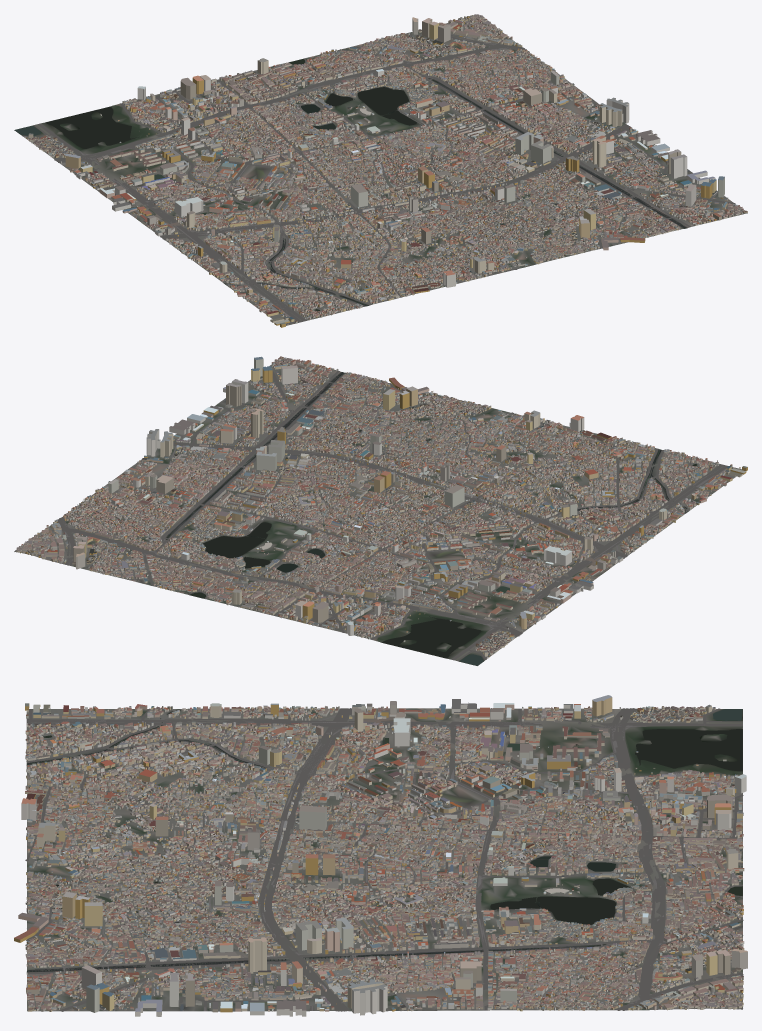
3 views of the same model, one above another, from view 1: azimuth 30°, elevation 25°; view 2: azimuth 150°, elevation 25°; view 3: azimuth 270°, elevation 25° (orthographic). The views are drawn at different scales.
Parts seen in each view (by area): view 1: buildings, ground, roads, water; view 2: buildings, ground, roads, water; view 3: buildings, ground, roads, water.
Boxes of the visible parts, <box> form: buildings: <box>24,14,747,327</box>; ground: <box>14,18,747,325</box>; roads: <box>22,20,735,324</box>; water: <box>15,58,689,311</box>; buildings: <box>16,356,747,658</box>; ground: <box>14,360,741,665</box>; roads: <box>15,366,743,661</box>; water: <box>166,372,697,665</box>; buildings: <box>14,695,747,1016</box>; ground: <box>26,708,742,1011</box>; roads: <box>25,708,743,1011</box>; water: <box>26,709,742,1010</box>.
Size of the model in its own units: 2900 by 140 by 2874.
